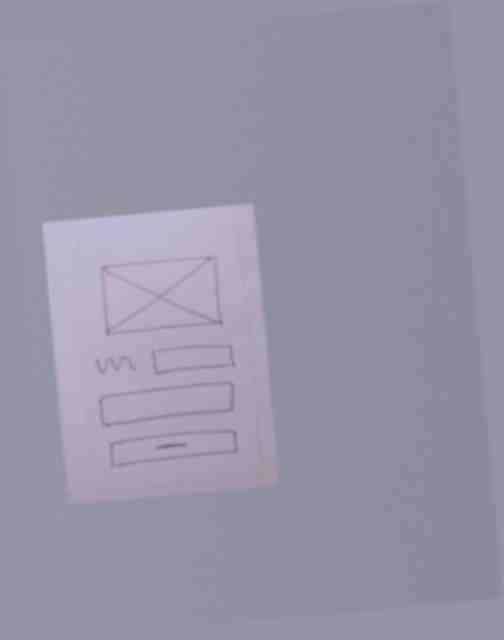button: (102, 426, 243, 472)
image: (93, 250, 229, 343)
text: (91, 349, 141, 378)
text_input: (93, 379, 241, 430), (148, 337, 242, 381)
